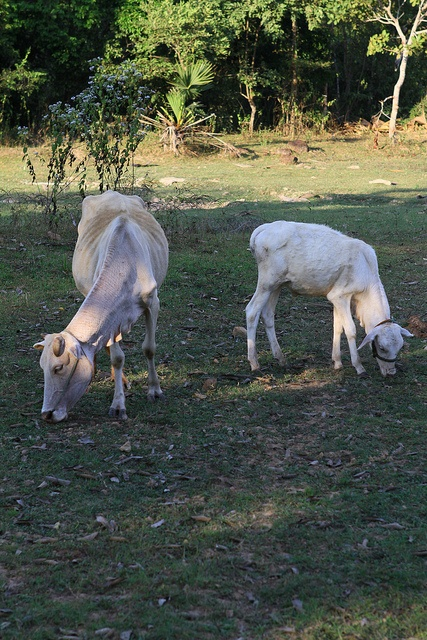cow: (31, 188, 202, 614)
